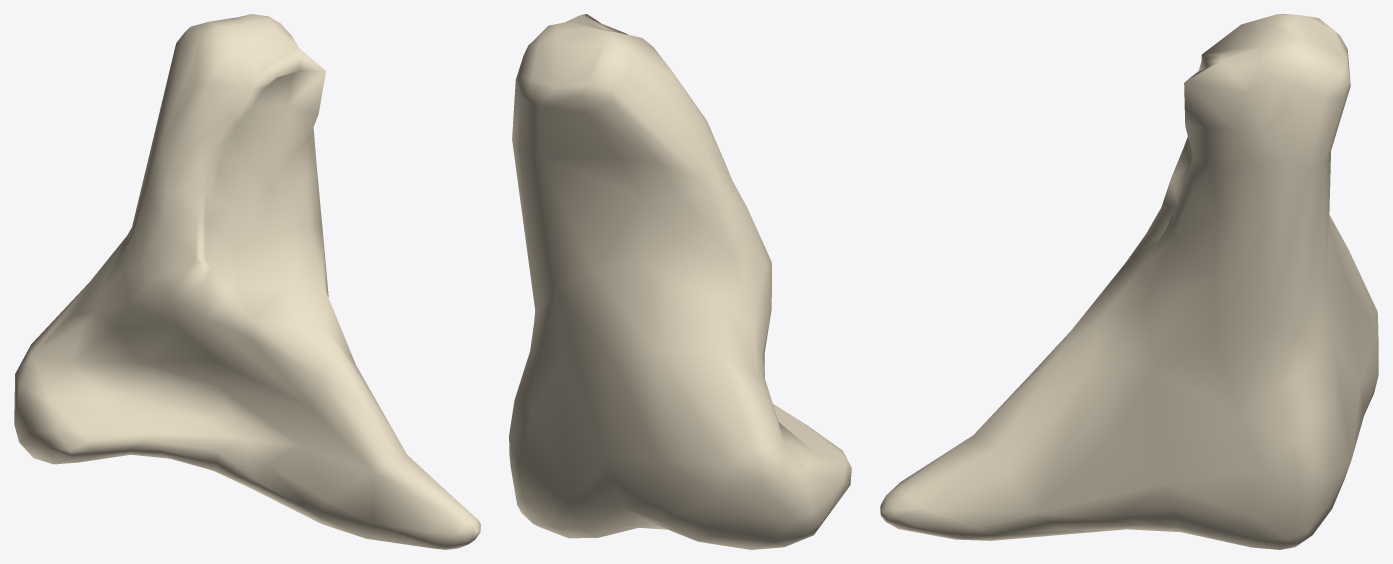
File: arytenoid-cartilage-r.glb
3 renders of one model, left to right at view 1: azimuth 30°, elevation 25°; view 2: azimuth 150°, elevation 25°; view 3: azimuth 270°, elevation 25°, orthographic. The views are drawn at different scales.
Visible parts, largest first — view 1: Arytenoid cartilage.r; view 2: Arytenoid cartilage.r; view 3: Arytenoid cartilage.r.
Part boxes in pixels (box(x1,y1,x2,y2)): Arytenoid cartilage.r: box(14, 14, 480, 549); Arytenoid cartilage.r: box(509, 14, 851, 549); Arytenoid cartilage.r: box(880, 14, 1378, 549).
Size of the model in its own units: 0.0055 by 0.00813 by 0.00728.
